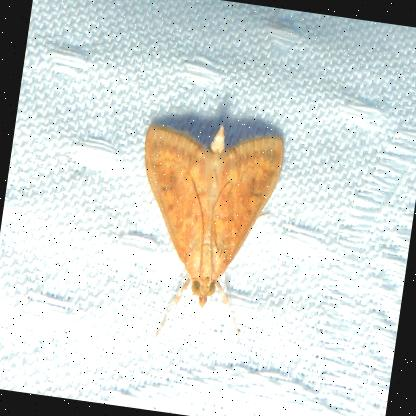Asian Corn Borer Moth: (114, 109, 289, 356)
